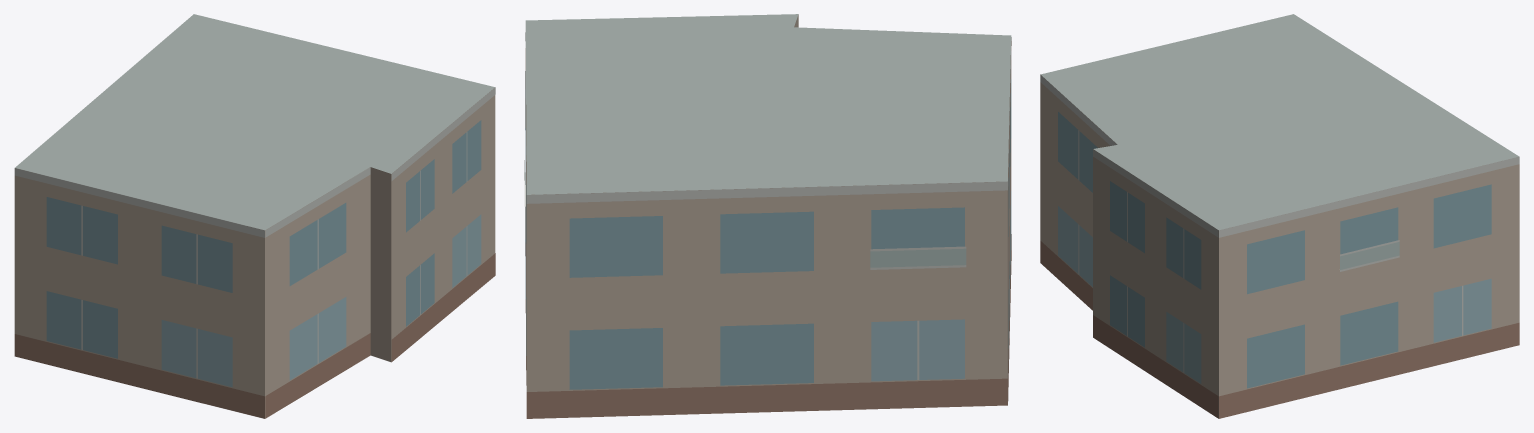
File: survey-upis-32486900.glb
3 renders of one model, left to right at view 1: azimuth 30°, elevation 25°; view 2: azimuth 150°, elevation 25°; view 3: azimuth 270°, elevation 25°, orthographic. The views are drawn at different scales.
Visible parts, largest first — view 1: survey-upis-32486900.tmp; view 2: survey-upis-32486900.tmp; view 3: survey-upis-32486900.tmp.
Boxes of the visible parts, box(x1,y1,x2,y2) form: survey-upis-32486900.tmp: box(14, 14, 495, 418); survey-upis-32486900.tmp: box(524, 14, 1011, 418); survey-upis-32486900.tmp: box(1040, 14, 1519, 418).
Size of the model in its own units: 15.02 by 6.1 by 14.06.
